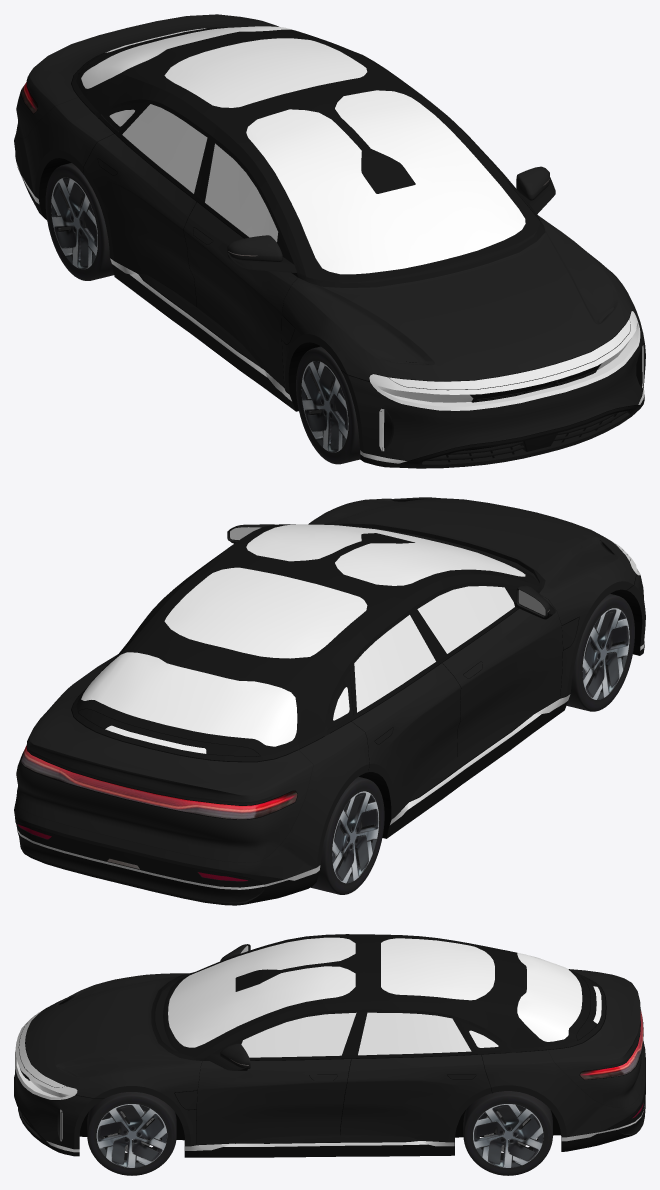
File: sedan-6.glb
3 views of the same model, one above another, from view 1: azimuth 30°, elevation 25°; view 2: azimuth 150°, elevation 25°; view 3: azimuth 270°, elevation 25° (orthographic). The views are drawn at different scales.
Parts seen in each view (by area): view 1: Sedan_6.Body, Sedan_6.Wheel.Bk.R, Sedan_6.Wheel.Ft.R; view 2: Sedan_6.Body, Sedan_6.Wheel.Bk.R, Sedan_6.Wheel.Ft.R; view 3: Sedan_6.Body, Sedan_6.Wheel.Bk.L, Sedan_6.Wheel.Ft.L.
Part boxes in pixels (x1=…): Sedan_6.Body: x1=14, y1=14, x2=645, y2=468; Sedan_6.Wheel.Bk.R: x1=45, y1=163, x2=113, y2=280; Sedan_6.Wheel.Ft.R: x1=296, y1=346, x2=360, y2=464; Sedan_6.Body: x1=14, y1=497, x2=645, y2=905; Sedan_6.Wheel.Bk.R: x1=311, y1=777, x2=384, y2=894; Sedan_6.Wheel.Ft.R: x1=566, y1=594, x2=634, y2=711; Sedan_6.Body: x1=14, y1=934, x2=645, y2=1157; Sedan_6.Wheel.Bk.L: x1=463, y1=1091, x2=552, y2=1175; Sedan_6.Wheel.Ft.L: x1=87, y1=1092, x2=176, y2=1175.
Size of the model in its own units: 2.2 by 1.4 by 4.98.
11 materials, 3 textured.
